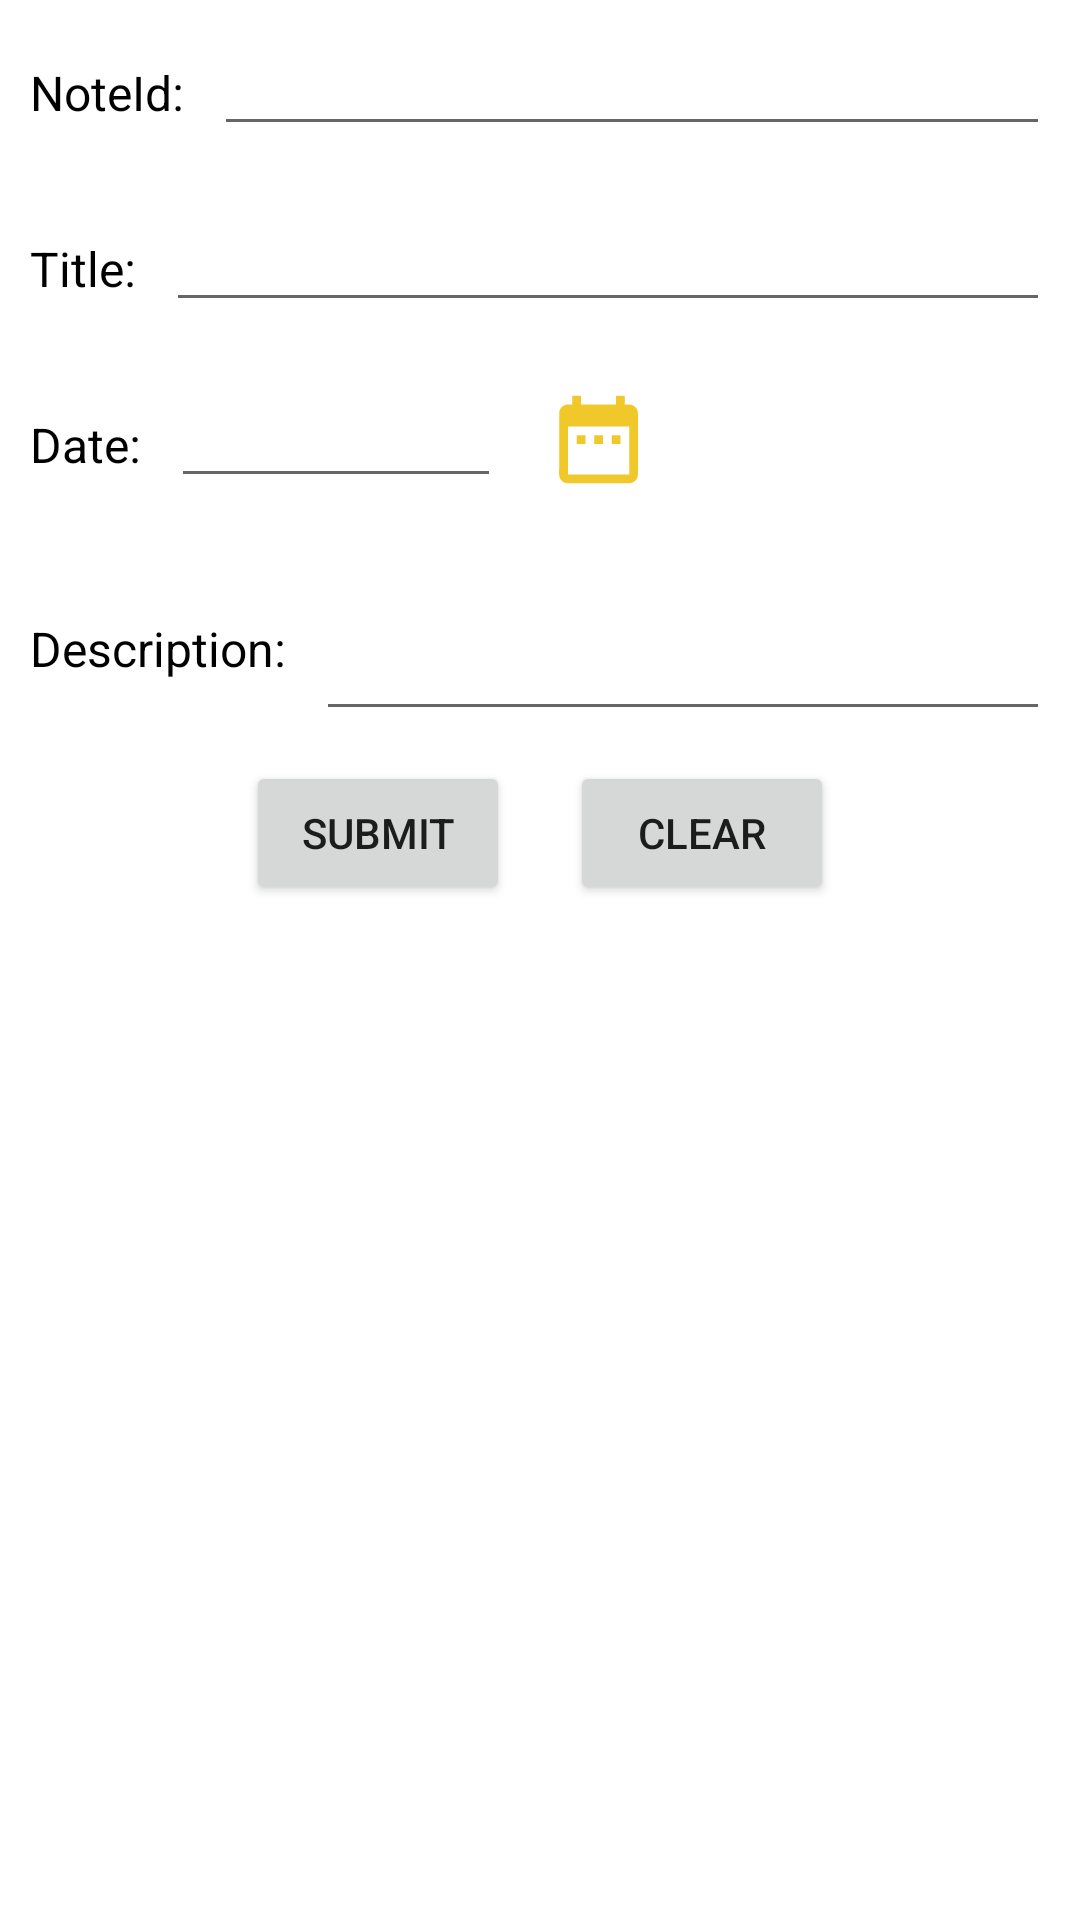

Point at icon controls on the screen. Image size 1080*1920, points as point (x, y).
date range: point (598, 439)
